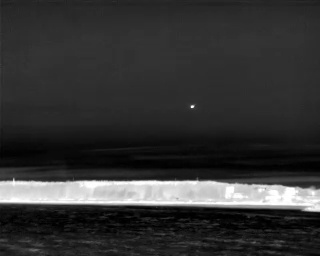HELICOPTER: (188, 101, 197, 112)
